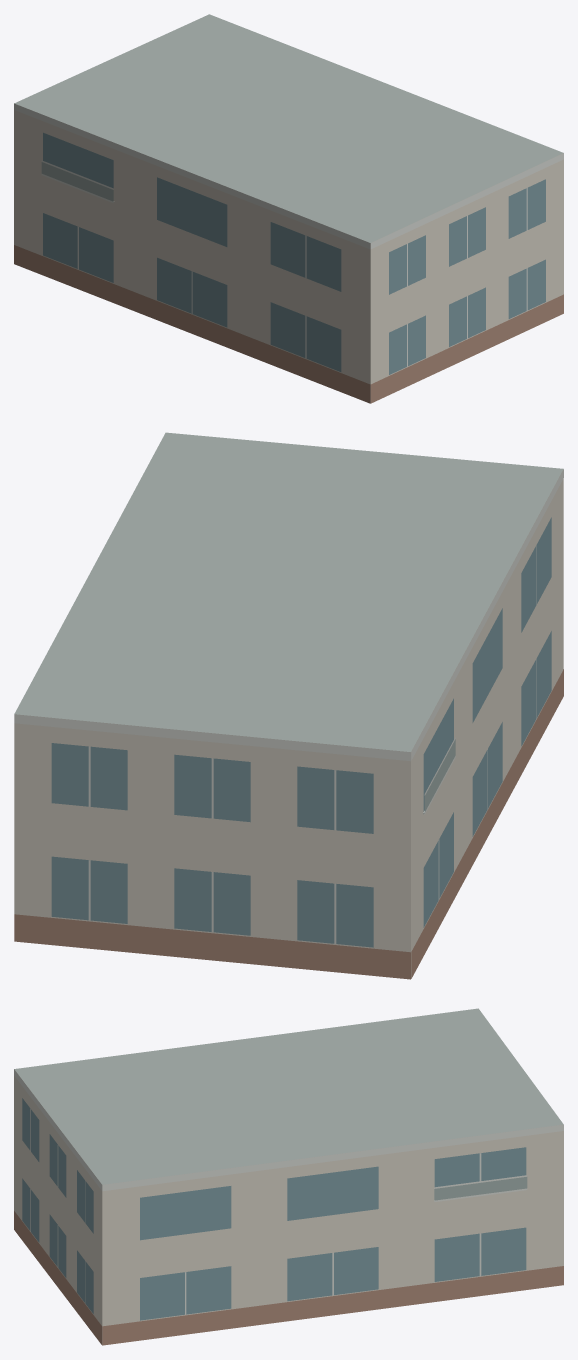
The model's file is survey-upis-32880412.glb.
The picture shows the model from 3 angles, top to bottom: view 1: azimuth 30°, elevation 25°; view 2: azimuth 150°, elevation 25°; view 3: azimuth 270°, elevation 25°; orthographic projection. The views are drawn at different scales.
Parts seen in each view (by area): view 1: survey-upis-32880412.tmp; view 2: survey-upis-32880412.tmp; view 3: survey-upis-32880412.tmp.
Part boxes in pixels (left/top/right/bottom): survey-upis-32880412.tmp: left=14, top=14, right=563, bottom=403; survey-upis-32880412.tmp: left=14, top=432, right=563, bottom=979; survey-upis-32880412.tmp: left=14, top=1008, right=563, bottom=1345.
Size of the model in its own units: 14.38 by 6.1 by 18.93.
